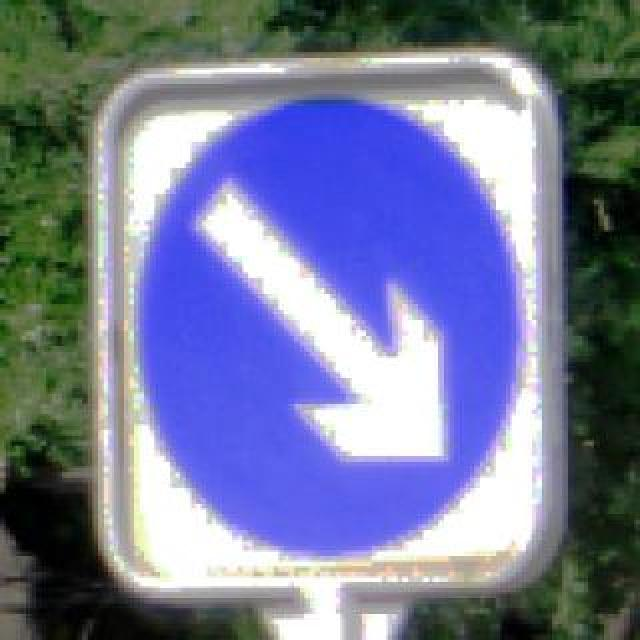keep right: (128, 90, 516, 552)
